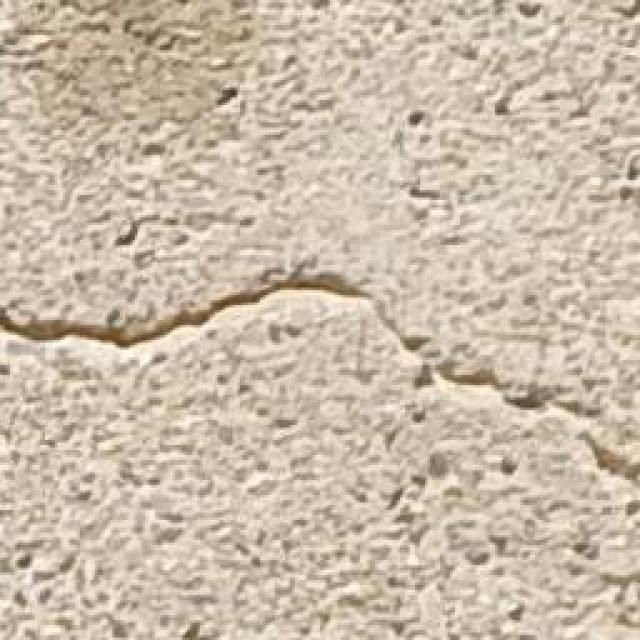concrete-crack: (0, 270, 608, 418), (585, 438, 640, 490)
